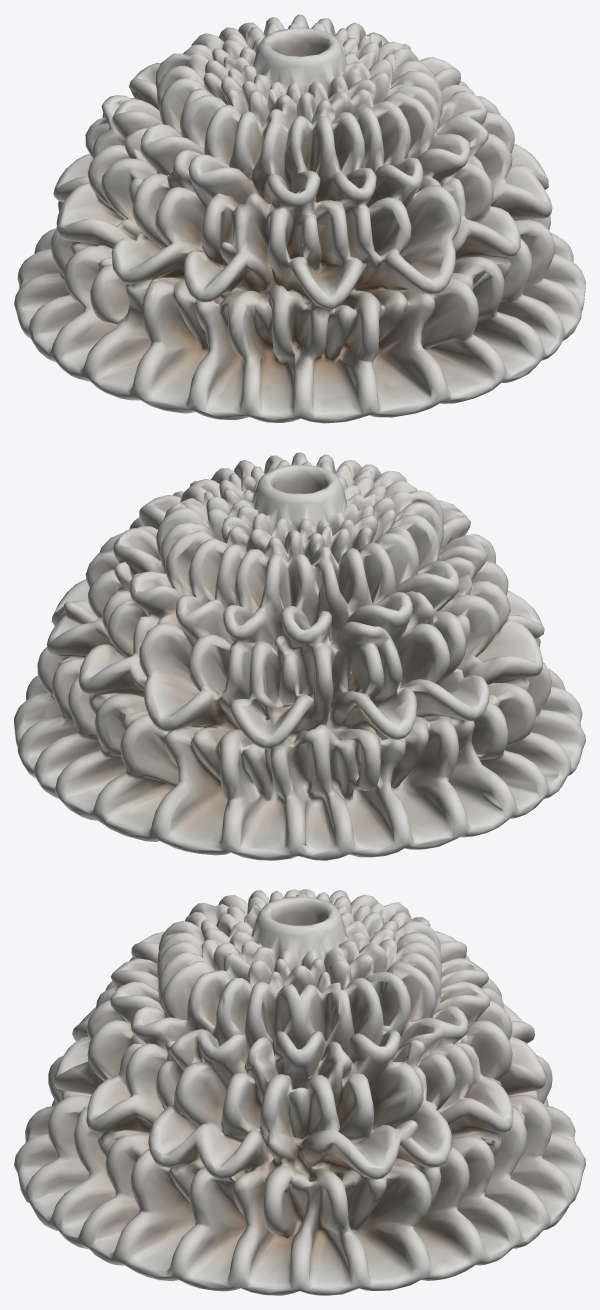
Rendered from dalia.glb.
3 views of the same model, one above another, from view 1: azimuth 30°, elevation 25°; view 2: azimuth 150°, elevation 25°; view 3: azimuth 270°, elevation 25° (orthographic).
Parts seen in each view (by area): view 1: material; view 2: material; view 3: material.
Part boxes in pixels (x1=…): material: x1=14, y1=14, x2=585, y2=423; material: x1=14, y1=452, x2=585, y2=860; material: x1=14, y1=889, x2=585, y2=1295.
Size of the model in its own units: 1.08 by 0.5649 by 1.08.
Materials: 1 (1 with a texture image).
